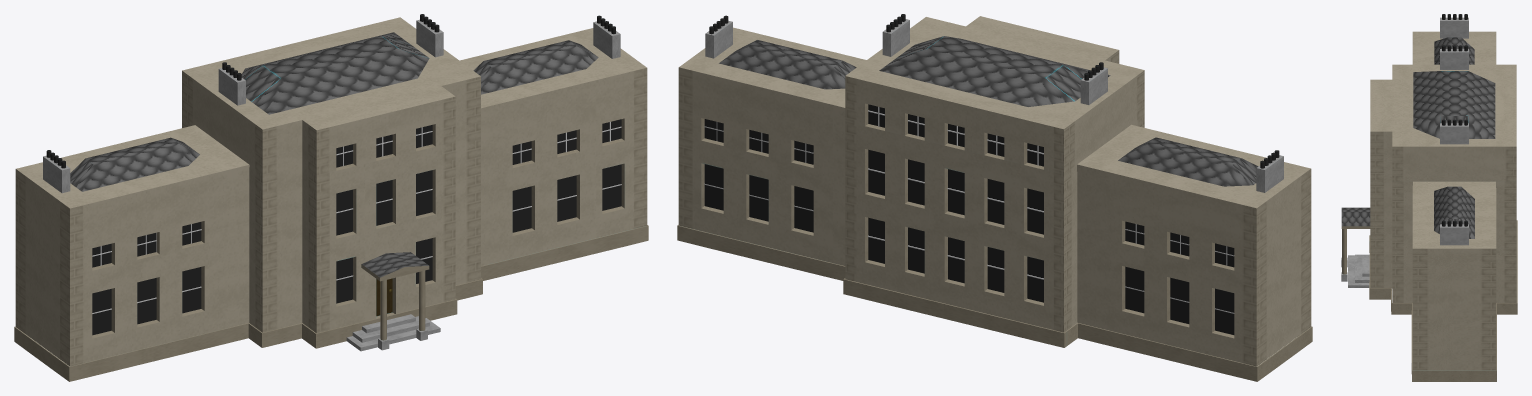
Rendered from geo_house2.obj.
3 renders of one model, left to right at view 1: azimuth 30°, elevation 25°; view 2: azimuth 150°, elevation 25°; view 3: azimuth 270°, elevation 25°, orthographic. The views are drawn at different scales.
Visible parts, largest first — view 1: house2_West_wing, House2_Center, House2_East_Wing, House2_Front, House2_Entrance; view 2: House2_Center, house2_West_wing, House2_East_Wing, House2_Front; view 3: House2_Center, House2_East_Wing, House2_Front, house2_West_wing, House2_Entrance.
Part boxes in pixels (x1,y1,x2,y2): house2_West_wing: [14, 125, 249, 381]; House2_Center: [182, 14, 482, 347]; House2_East_Wing: [459, 15, 648, 280]; House2_Front: [302, 86, 457, 348]; House2_Entrance: [346, 252, 440, 351]; House2_Center: [843, 14, 1144, 347]; house2_West_wing: [1077, 124, 1312, 381]; House2_East_Wing: [677, 15, 866, 280]; House2_Front: [966, 16, 1119, 63]; House2_Center: [1391, 45, 1517, 314]; House2_East_Wing: [1411, 181, 1496, 381]; House2_Front: [1369, 79, 1392, 299]; house2_West_wing: [1412, 14, 1496, 64]; House2_Entrance: [1341, 207, 1370, 287].
Size of the model in its own units: 103 by 42.01 by 35.42.
